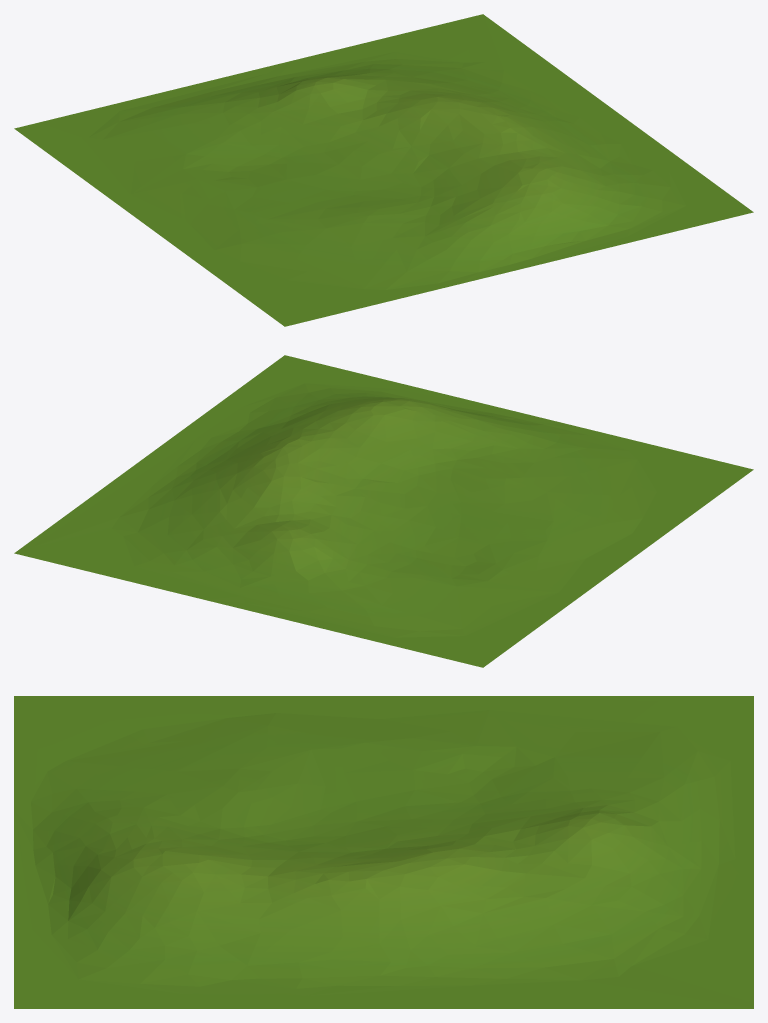
File: Terrain_06.fbx
3 renders of one model, top to bottom at view 1: azimuth 30°, elevation 25°; view 2: azimuth 150°, elevation 25°; view 3: azimuth 270°, elevation 25°, orthographic. The views are drawn at different scales.
Parts seen in each view (by area): view 1: Terrain_06; view 2: Terrain_06; view 3: Terrain_06.
Part boxes in pixels (box(x1,y1,x2,y2)): Terrain_06: box(14, 14, 753, 326); Terrain_06: box(14, 355, 753, 667); Terrain_06: box(14, 696, 753, 1008).
Size of the model in its own units: 12800 by 888 by 12800.
